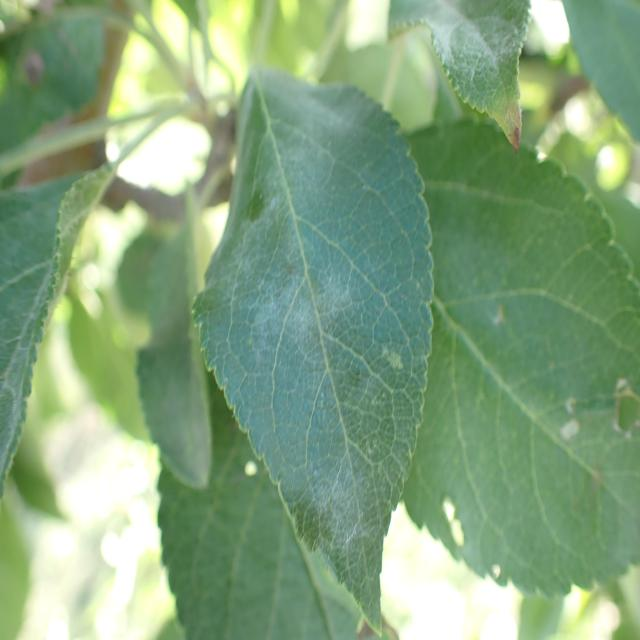Powdery_mildew: (224, 44, 416, 572)
